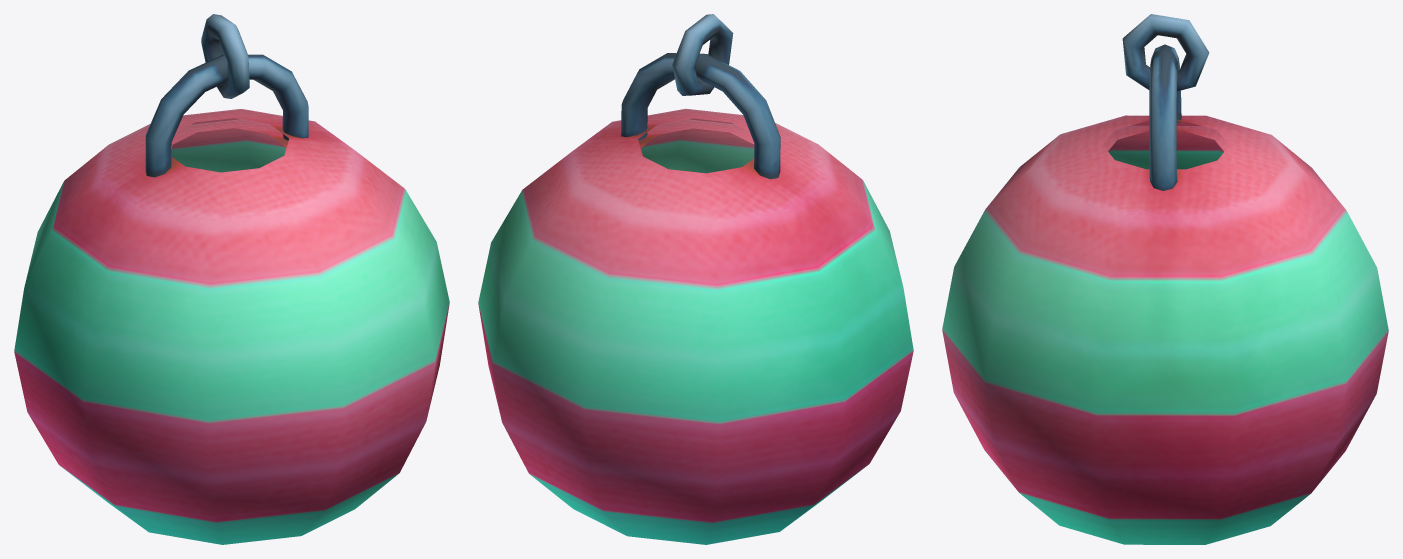
The model's file is SE_Lampion_02a.fbx.
3 renders of one model, left to right at view 1: azimuth 30°, elevation 25°; view 2: azimuth 150°, elevation 25°; view 3: azimuth 270°, elevation 25°, orthographic.
Parts seen in each view (by area): view 1: SE_Lampion_02a; view 2: SE_Lampion_02a; view 3: SE_Lampion_02a.
Part boxes in pixels (x1=…): SE_Lampion_02a: x1=14, y1=14, x2=449, y2=544; SE_Lampion_02a: x1=478, y1=14, x2=913, y2=544; SE_Lampion_02a: x1=942, y1=14, x2=1388, y2=544.
Bounding box in the file's own units: 2.15 × 2.87 × 2.27.
